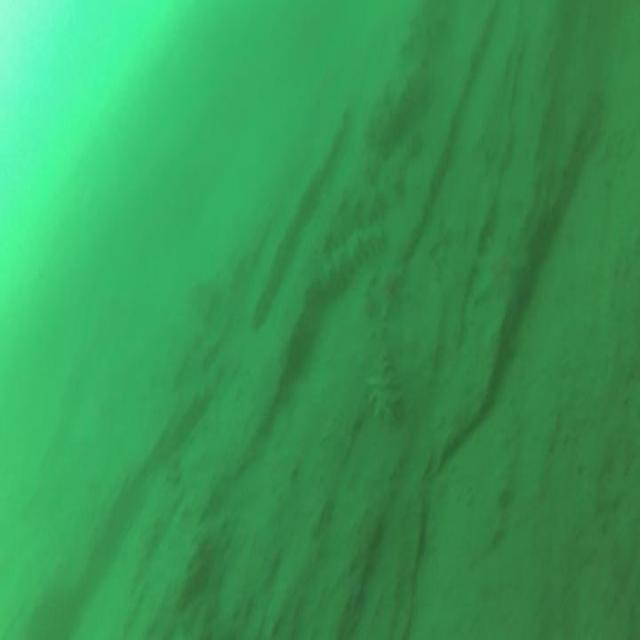holothurian: (358, 293, 406, 432), (309, 222, 386, 284)
